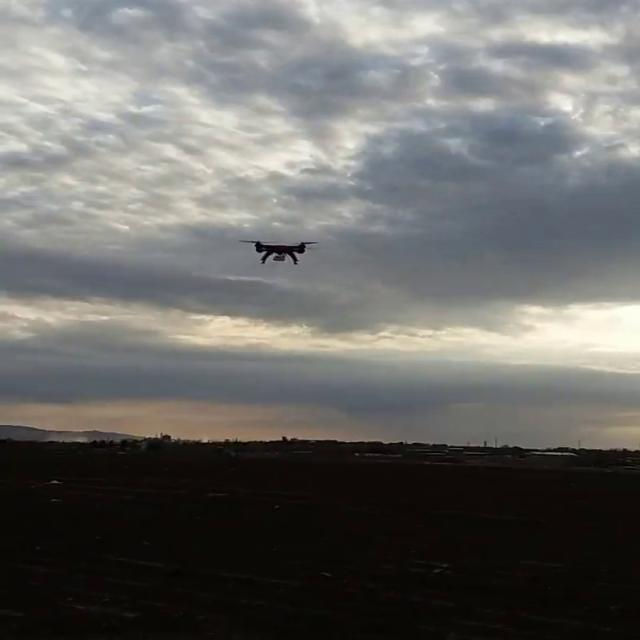drone: (234, 234, 324, 269)
